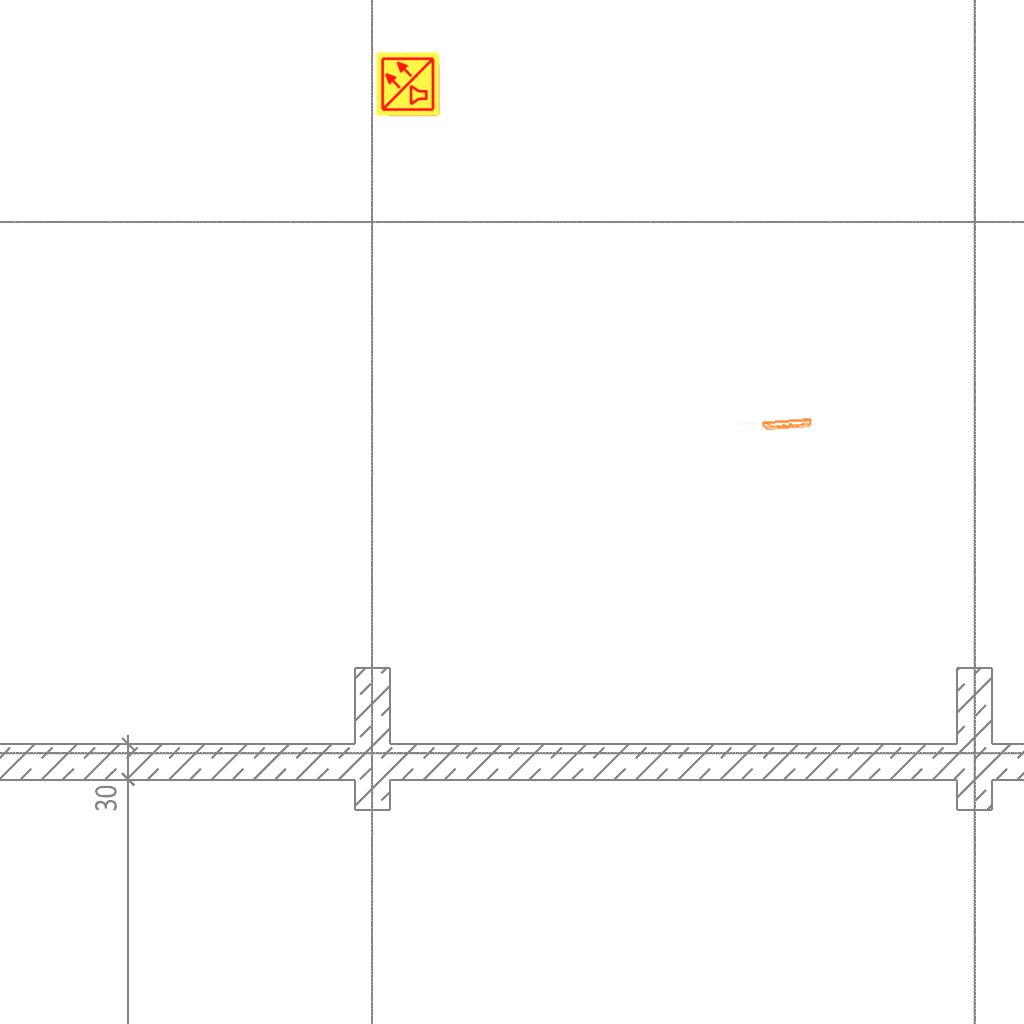OKW_Multisensormelder_(Kombination_optischer_Rauch-Kahlenmonoxid_Waerme-Melder): (375, 51, 441, 117)
Sicherheitsleuchte_Wandeinbau: (735, 416, 815, 435)
